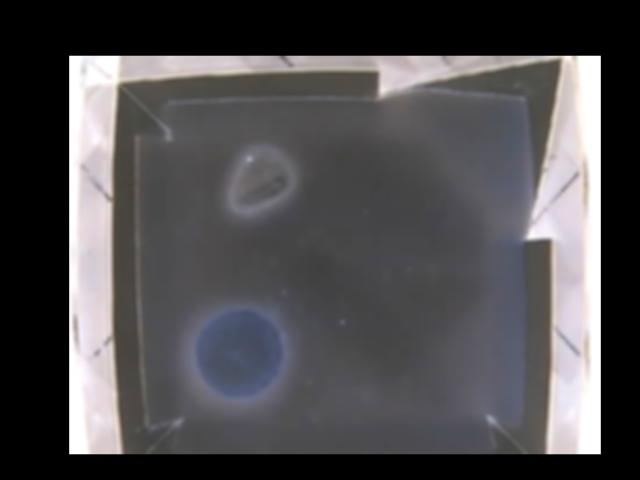Mooli: (197, 308, 284, 399)
Pebble: (230, 142, 291, 214)
